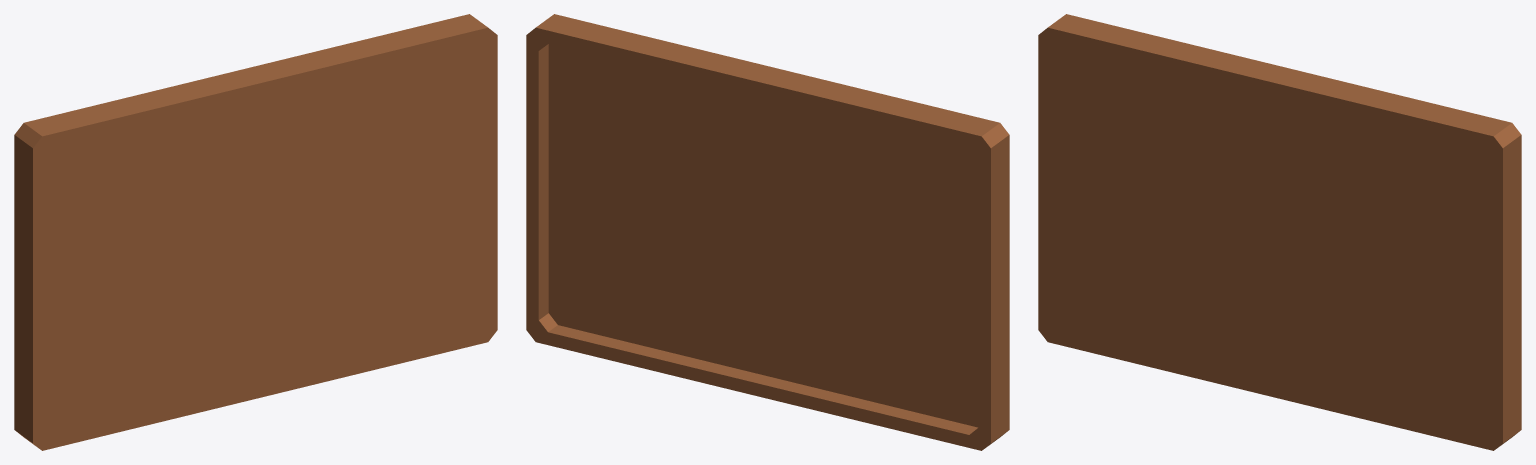
File: Corkboard.fbx
The picture shows the model from 3 angles, left to right: view 1: azimuth 30°, elevation 25°; view 2: azimuth 150°, elevation 25°; view 3: azimuth 330°, elevation 25°; orthographic projection.
Visible parts, largest first — view 1: Corkboard; view 2: Corkboard.001, Corkboard; view 3: Corkboard.
Part boxes in pixels (box(x1,y1,x2,y2)): Corkboard: box(14, 14, 497, 450); Corkboard.001: box(548, 44, 978, 427); Corkboard: box(526, 14, 1009, 450); Corkboard: box(1038, 14, 1521, 450).
Size of the model in its own units: 1.41 by 0.0979 by 0.9125.
